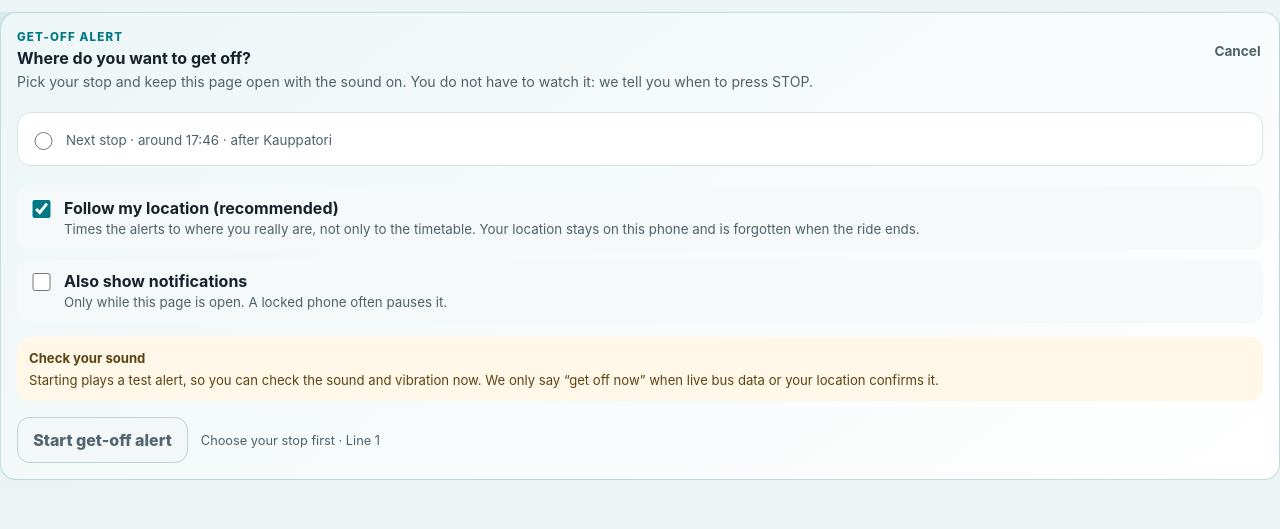
Test: explains a departure with no usable time
Expected: the button "Start get-off alert" is shown, [17,417,188,463]
What coordinates should you click on to do the following:
click the radio button showing "2"
I would click on:
 (43, 141)
Its box is [34,132,53,150].
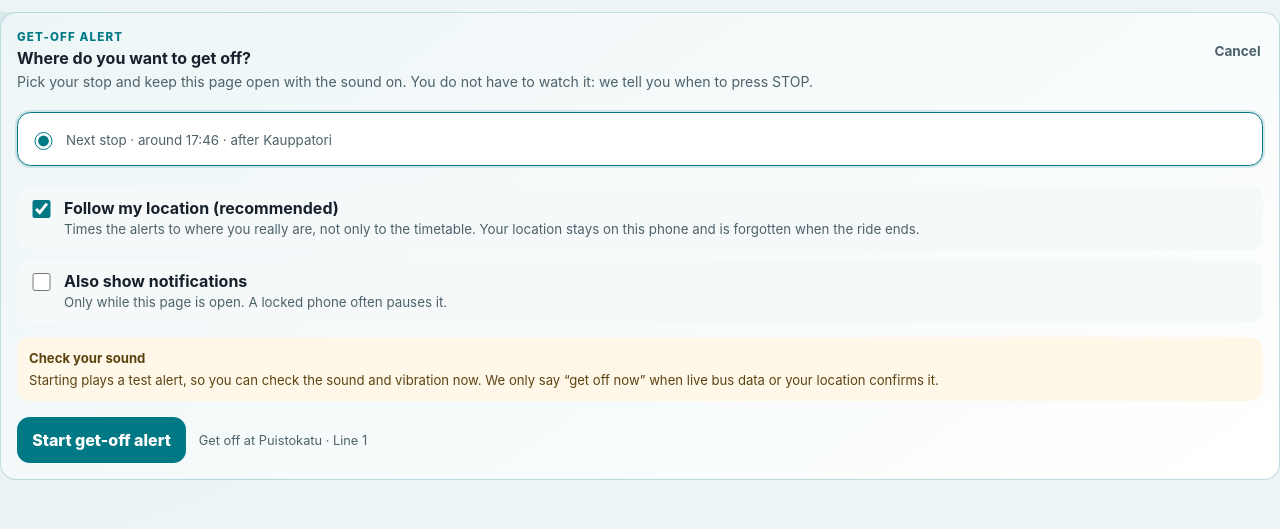
What coordinates should you click on to do the following:
click the button "Start get-off alert"
I would click on:
 (102, 440)
Its box is [17,417,186,463].
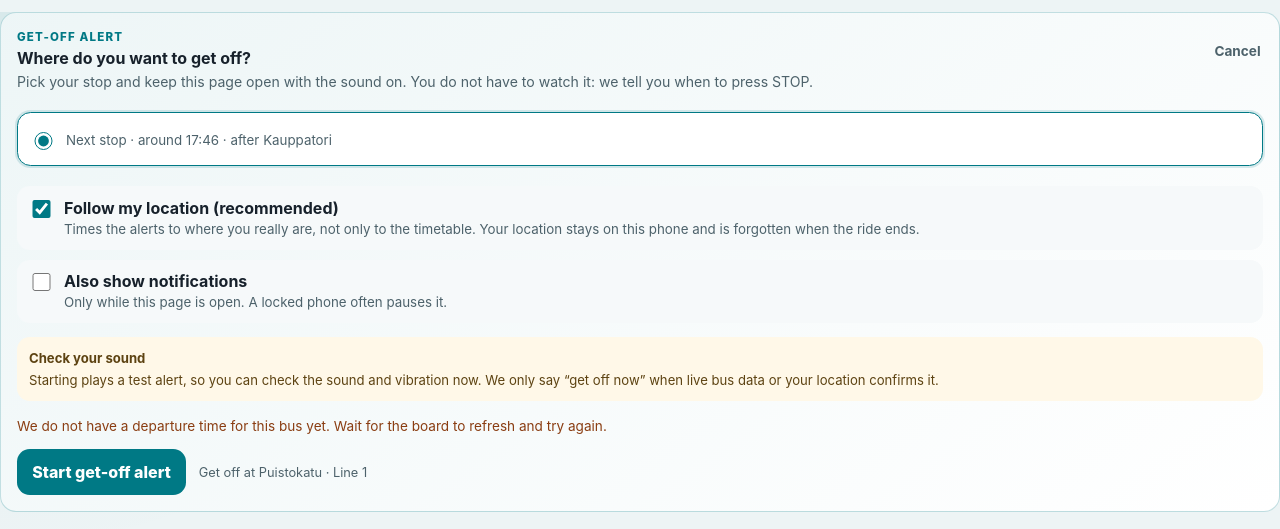
Expected: the message shows "do not have a departure time", [17,418,607,434]
